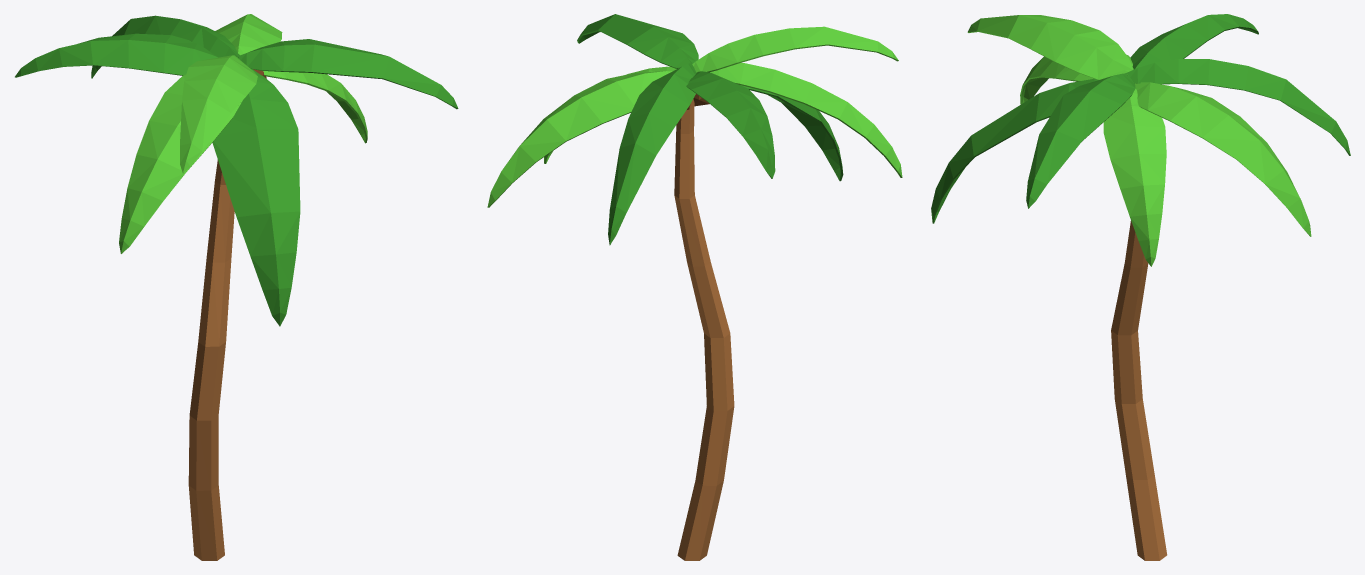
Rendered from palmtree-4.glb.
The picture shows the model from 3 angles, left to right: view 1: azimuth 30°, elevation 25°; view 2: azimuth 150°, elevation 25°; view 3: azimuth 270°, elevation 25°; orthographic projection. The views are drawn at different scales.
Parts seen in each view (by area): view 1: PalmTree_4; view 2: PalmTree_4; view 3: PalmTree_4.
Part boxes in pixels (bbox=[...]): PalmTree_4: bbox=[15, 14, 458, 560]; PalmTree_4: bbox=[487, 14, 902, 560]; PalmTree_4: bbox=[931, 14, 1350, 560].
Bounding box in the file's own units: 2.34 × 3.47 × 2.59.
